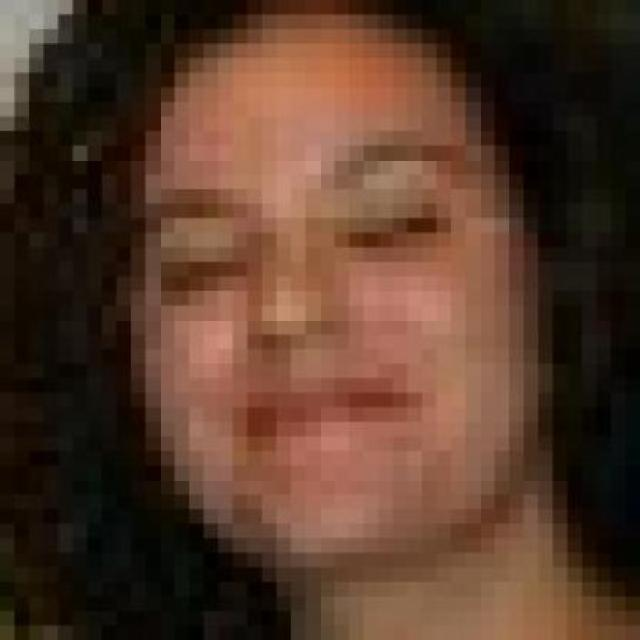drowsy: (334, 204, 444, 261), (147, 245, 235, 306)
